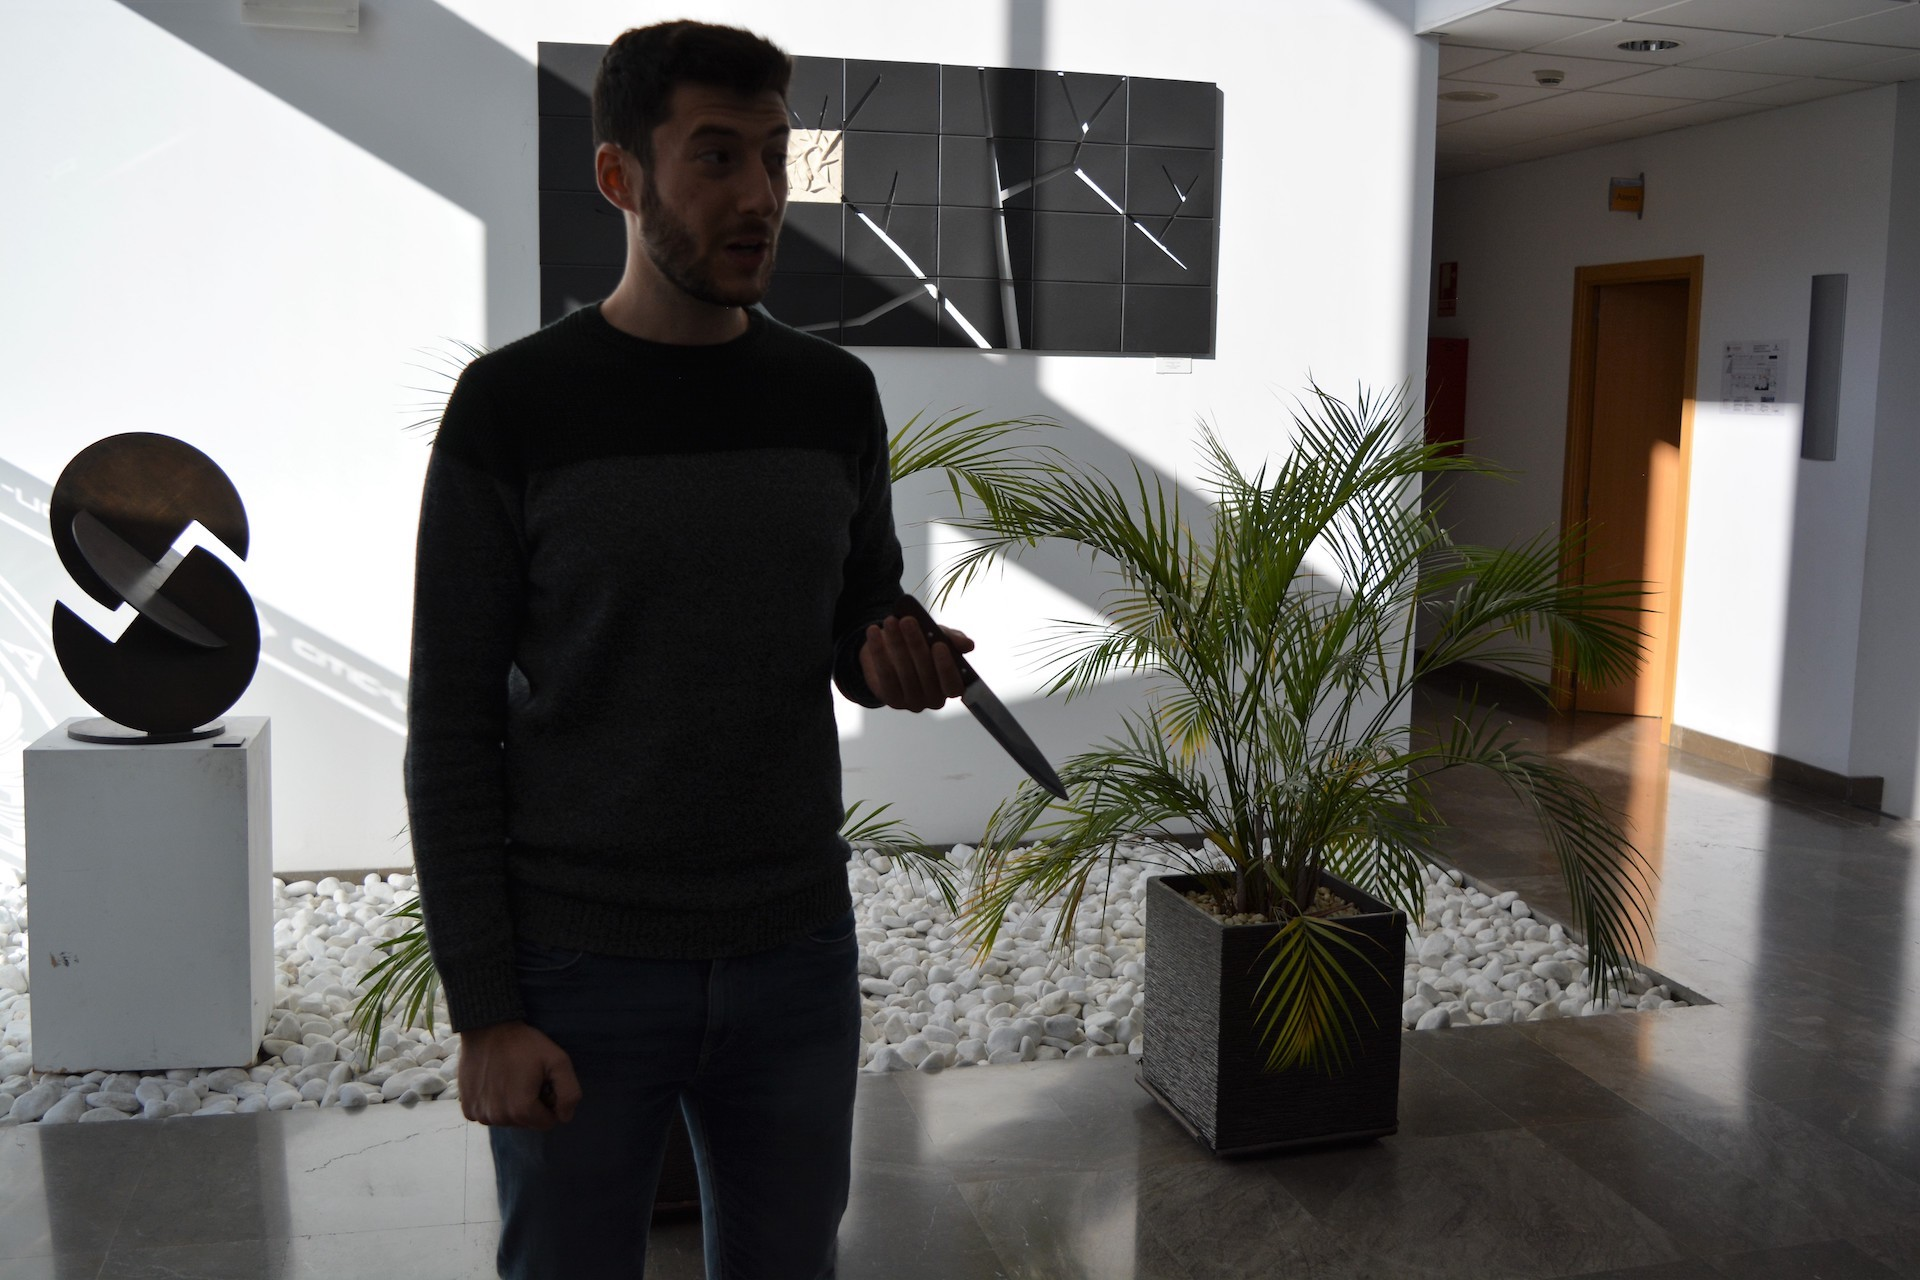knife: (891, 589, 1074, 806)
